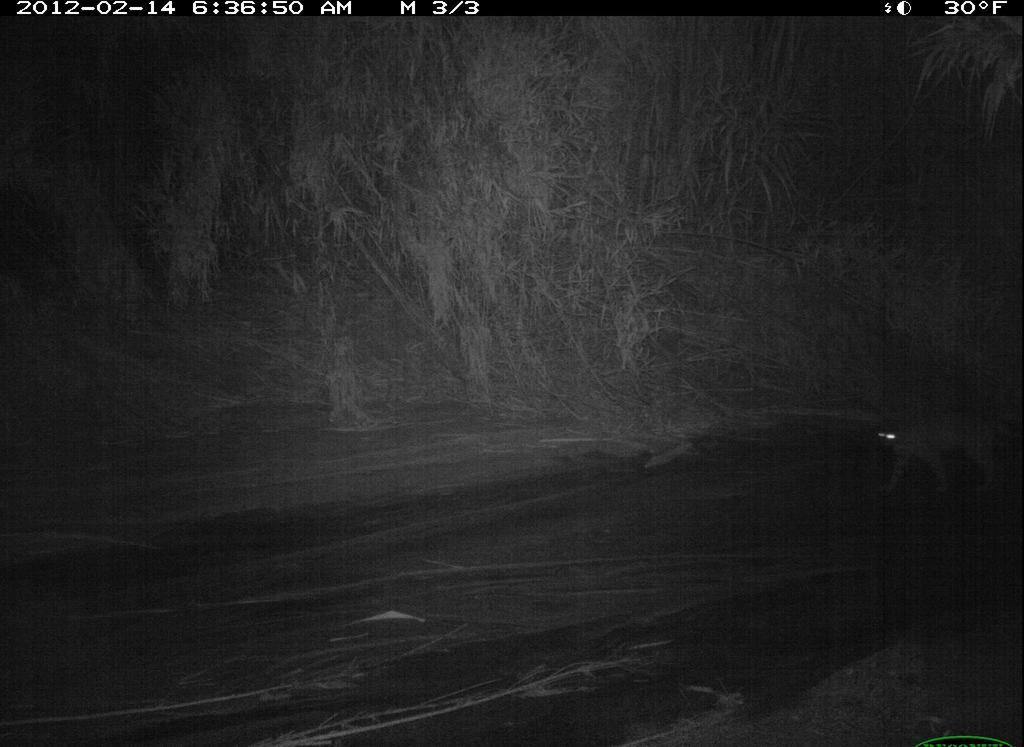bobcat: (872, 406, 1022, 500)
